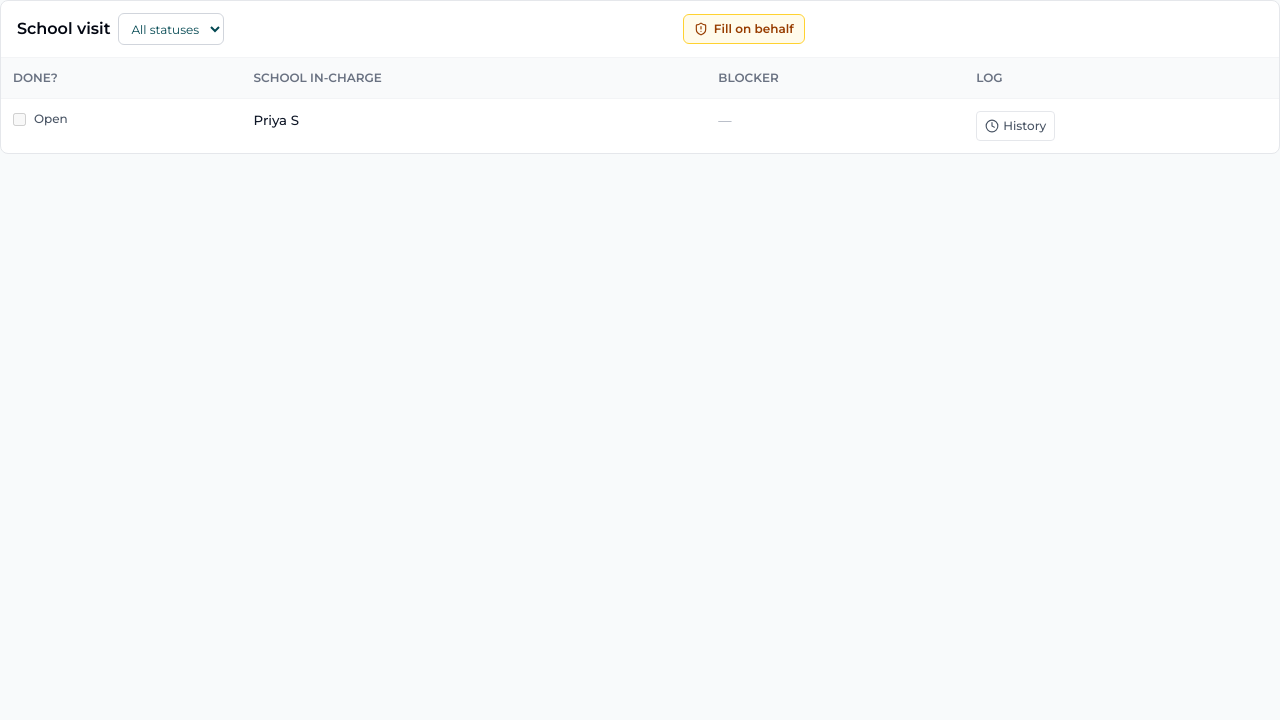
it: starting a session › unlocks the rows and keeps the reason on screen
Click the button "Fill on behalf" at (744, 29), box [683, 14, 805, 44]
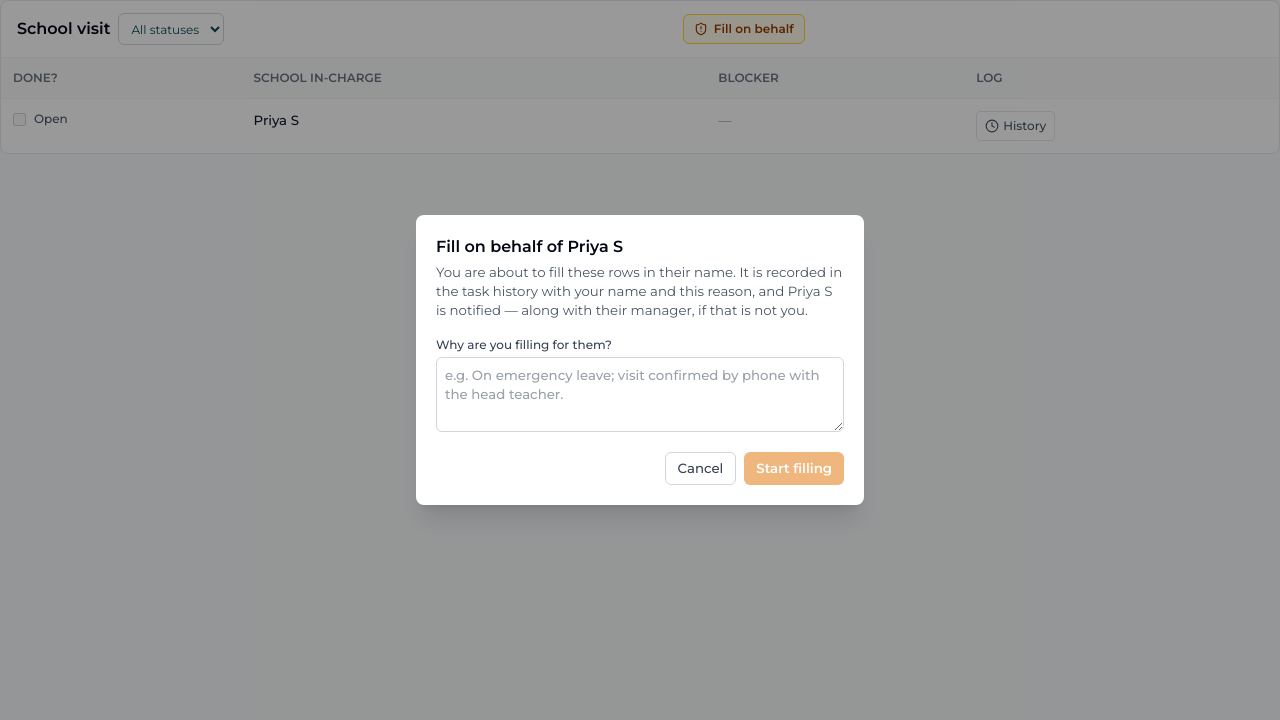
Replace the text in the text box labelled "Why are you filling for them?" with "On emergency leave; confirmed by phone." at (640, 394), box [436, 356, 844, 432]
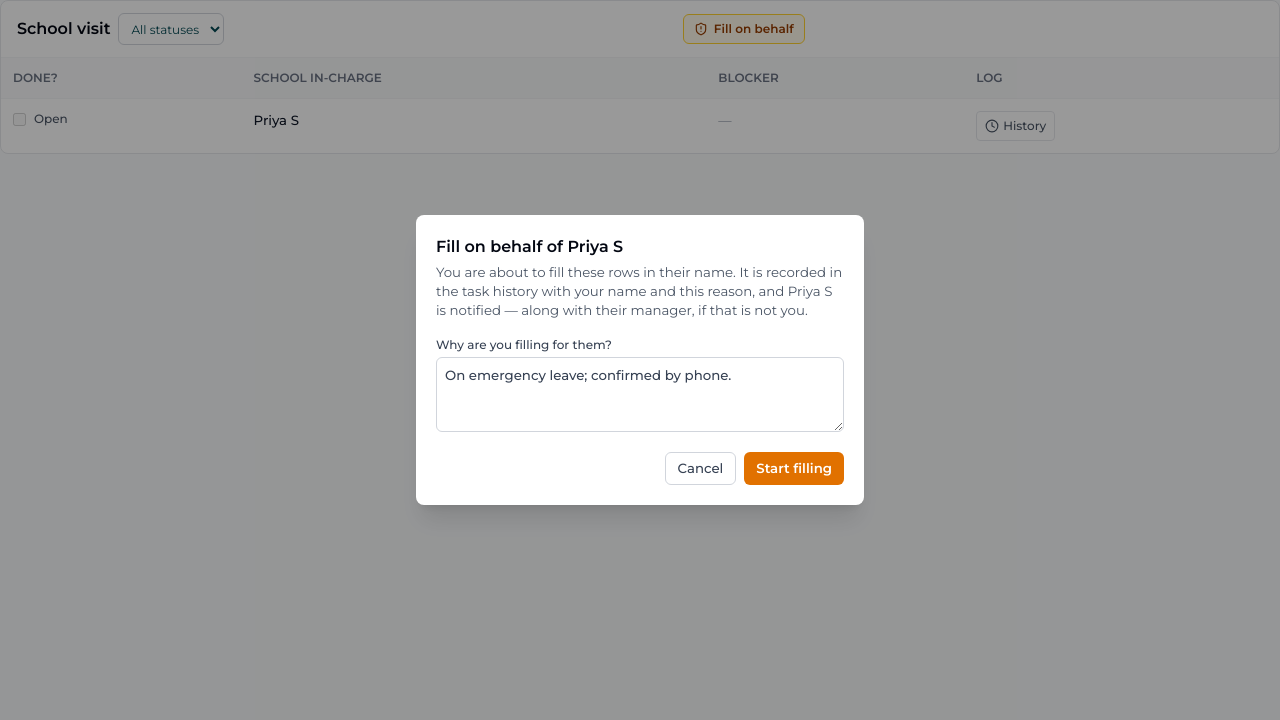
Click the button "Start filling" at (794, 468), box [744, 452, 844, 484]
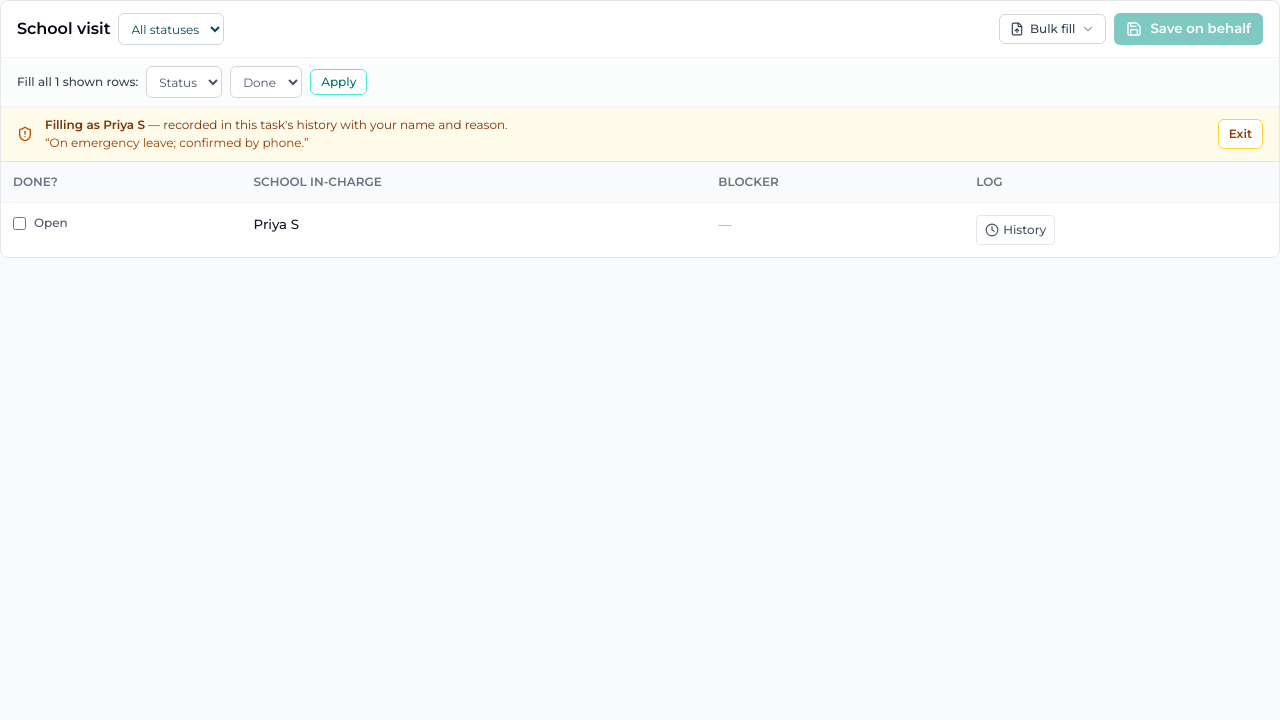
Expected: the text "Filling as Priya S" is shown, [45, 117, 145, 132]
Expected: the checkbox is enabled, [13, 216, 26, 230]
Expected: the text "“On emergency leave; confirmed by phone.”" is shown, [45, 135, 308, 150]
